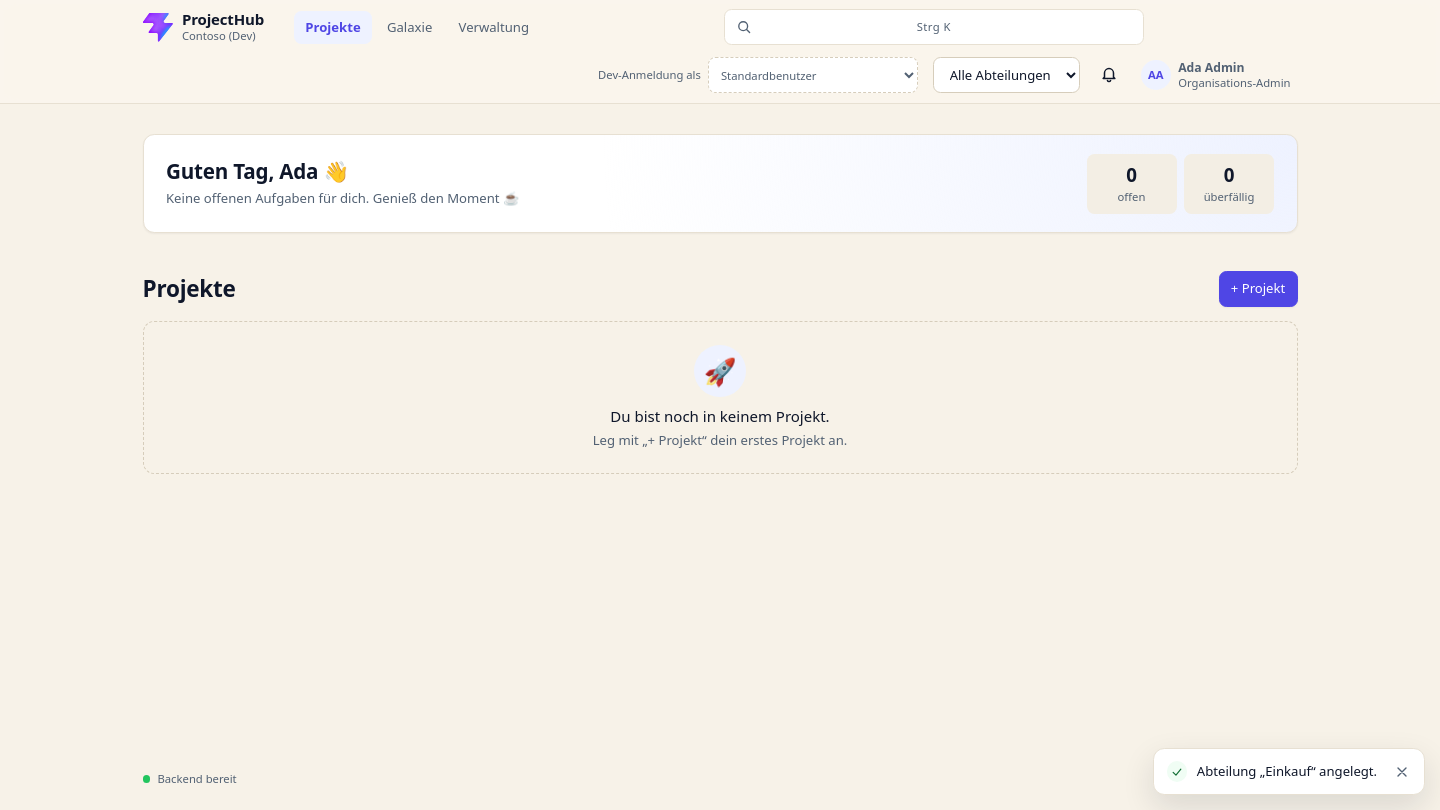
Scenario: App › shows department members and lets managers add someone
Click the button "Verwaltung" at (494, 27), box [447,11,540,44]
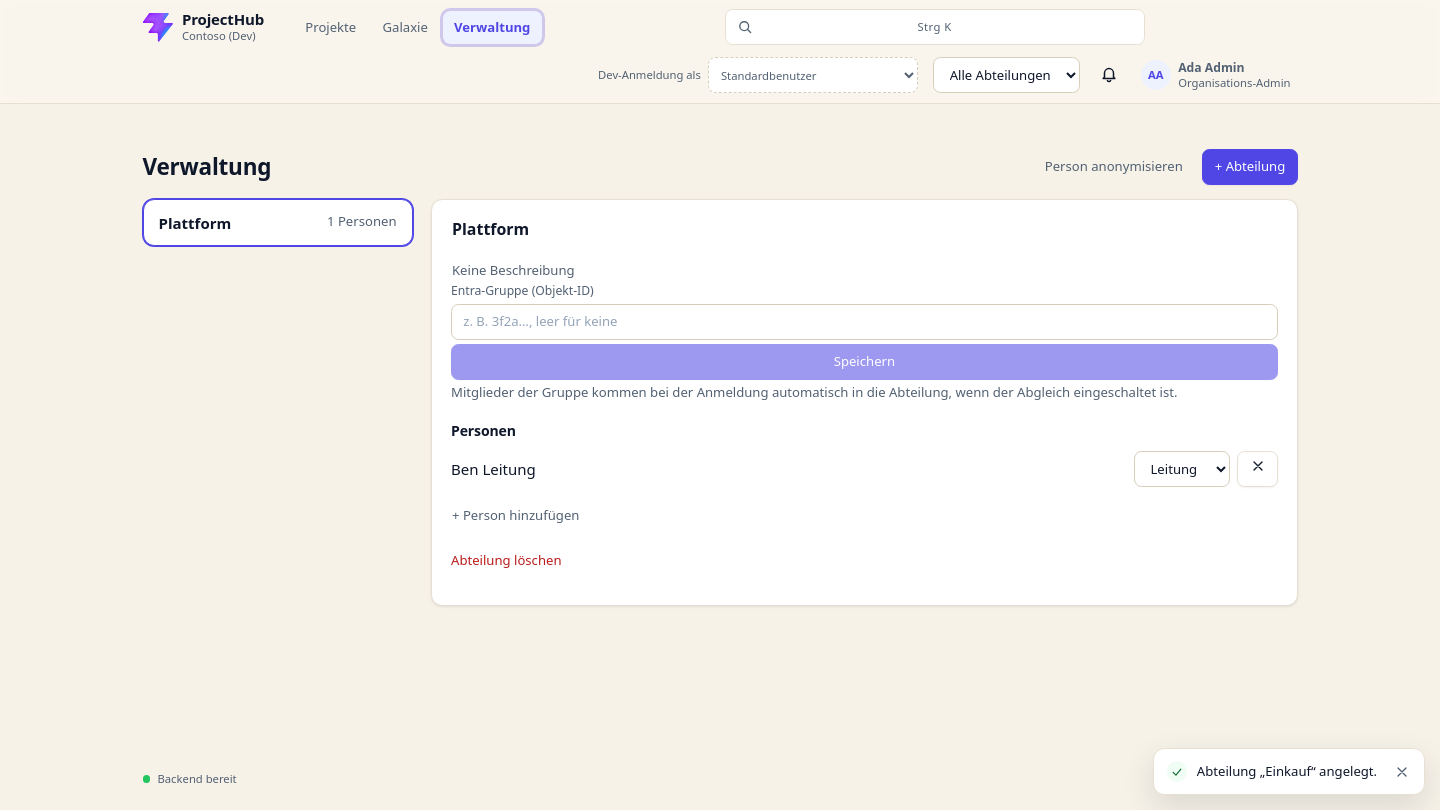
Check: the text "Ben Leitung" is shown, box [451,458,536,480]
Click the button "+ Person hinzufügen" at (516, 516), box [440,499,592,533]
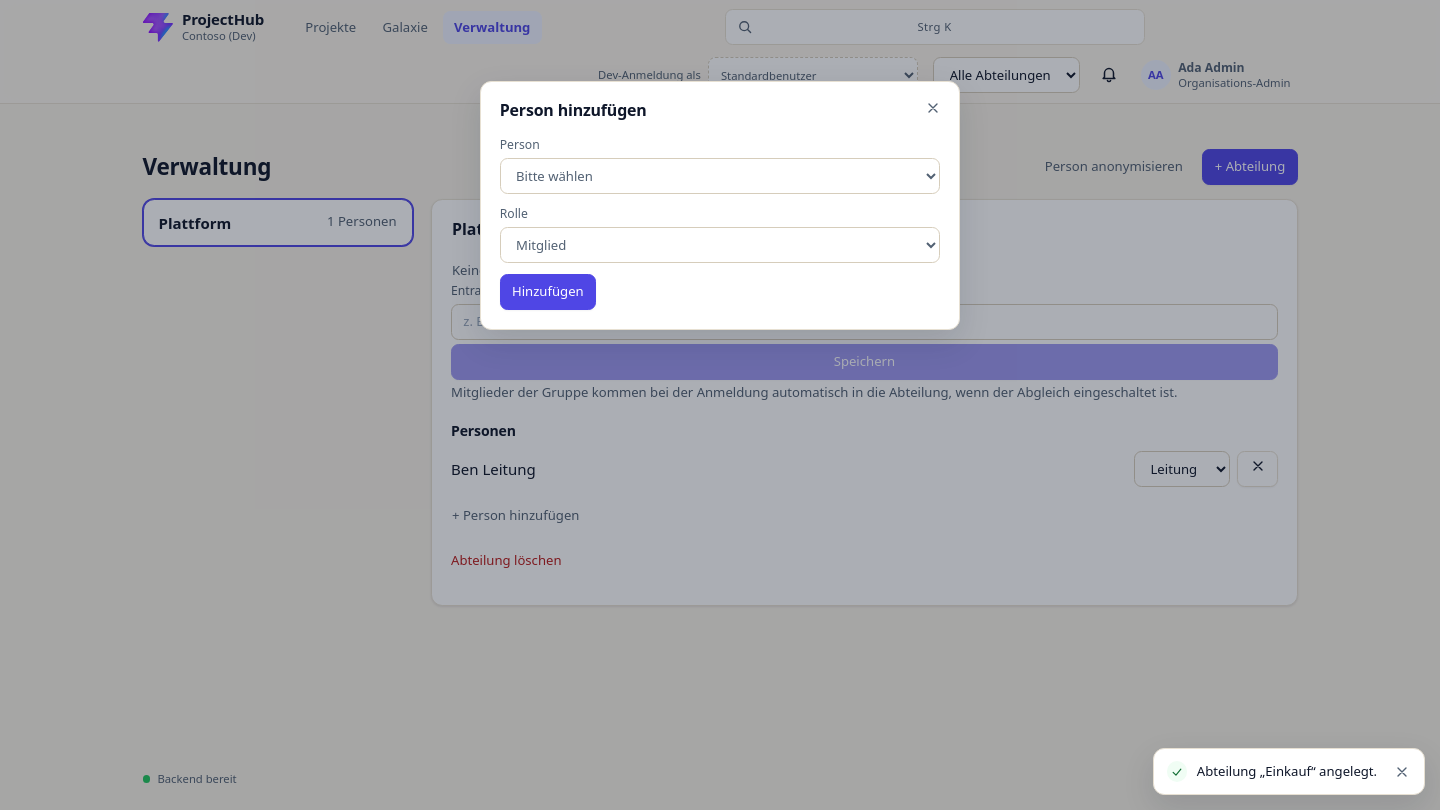
Select "Eva Viewer" in the dropdown labelled "Person" at (720, 176), box [500,158,940,194]
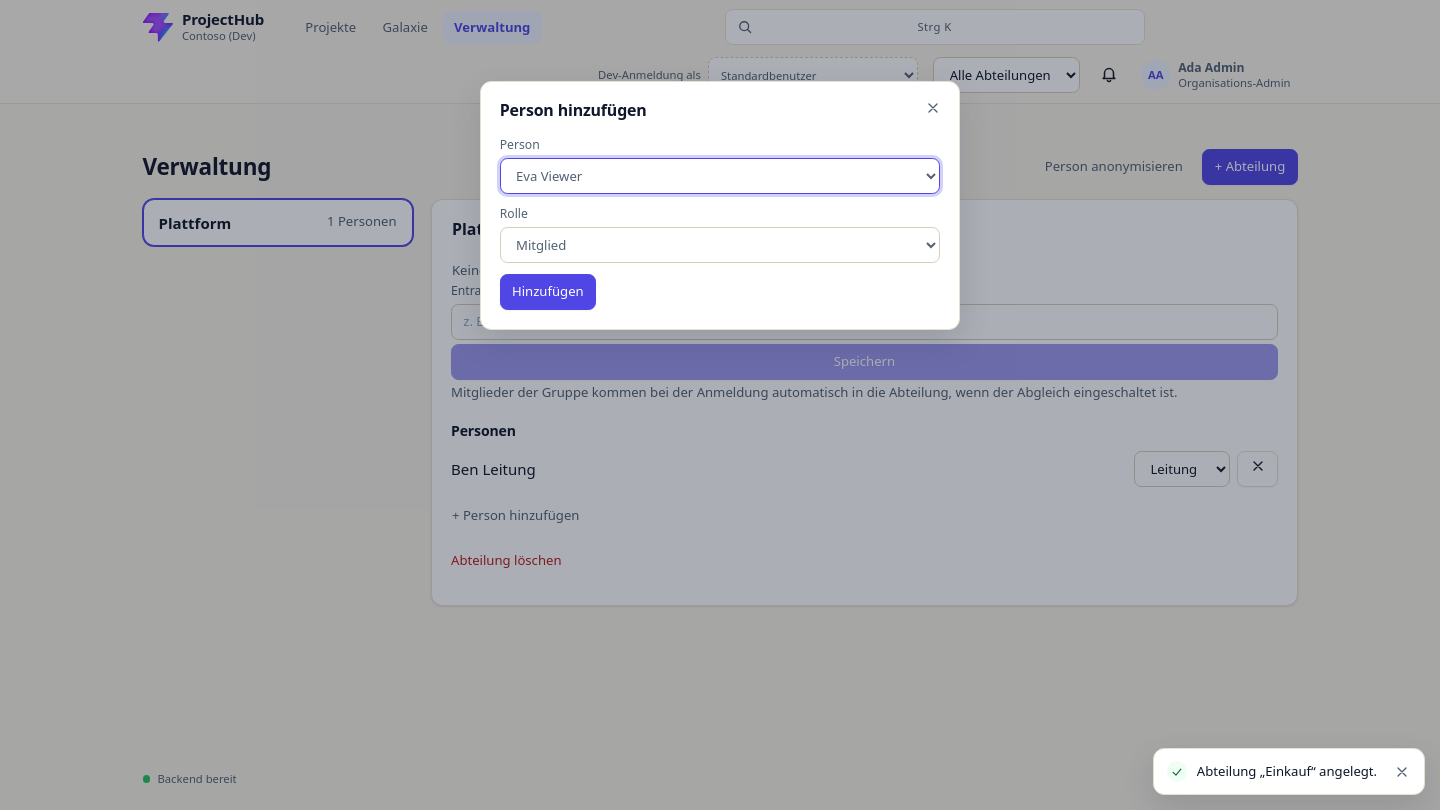
Click the button "Hinzufügen" at (548, 292), box [500,274,596,310]
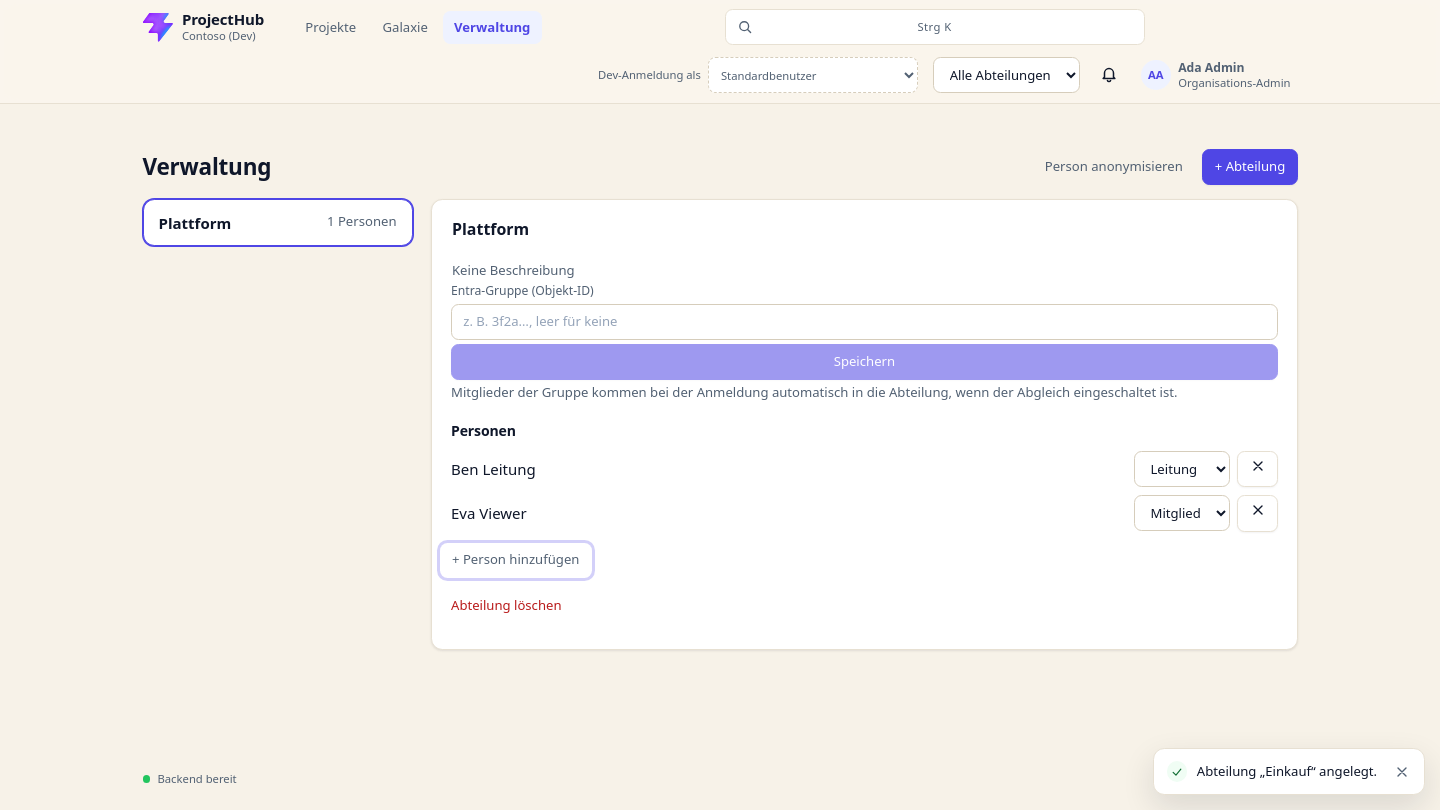
Check: the text "Eva Viewer" is shown, box [451,502,527,524]
